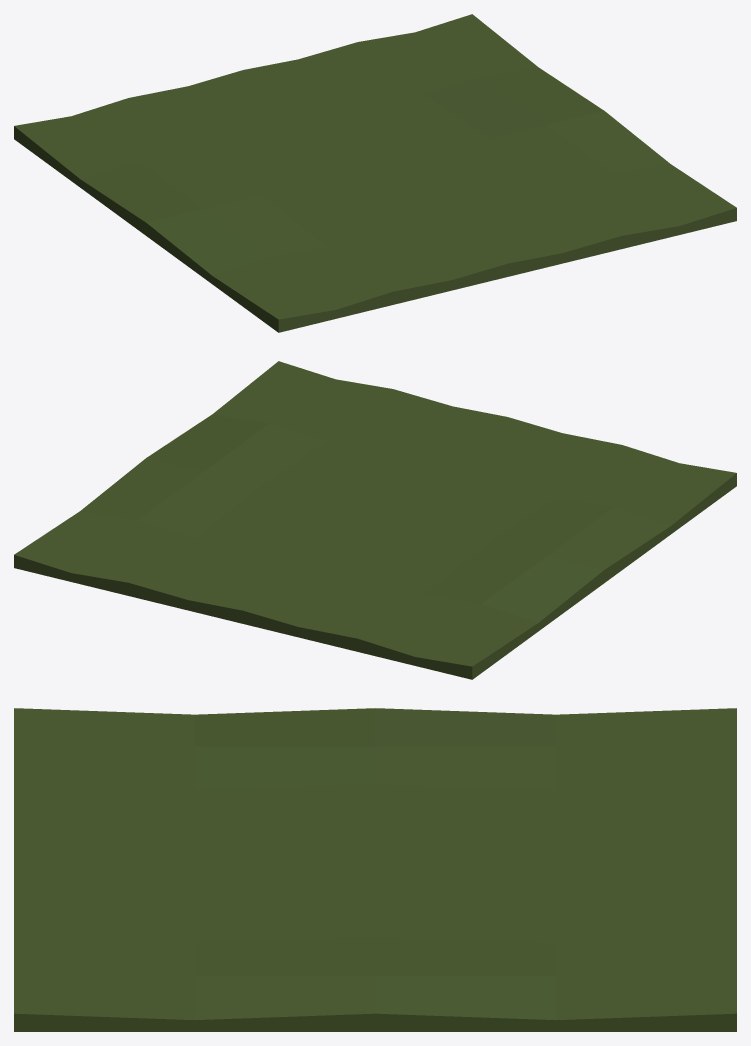
Rendered from SM_Env_Grass_01.fbx.
3 renders of one model, top to bottom at view 1: azimuth 30°, elevation 25°; view 2: azimuth 150°, elevation 25°; view 3: azimuth 270°, elevation 25°, orthographic. The views are drawn at different scales.
Parts seen in each view (by area): view 1: SM_Env_Grass_01; view 2: SM_Env_Grass_01; view 3: SM_Env_Grass_01.
Boxes of the visible parts, x1,y1,x2,y2 form: SM_Env_Grass_01: (14,14,736,332); SM_Env_Grass_01: (14,361,736,679); SM_Env_Grass_01: (14,708,736,1031).
Bounding box in the file's own units: 500 × 13.84 × 500.
